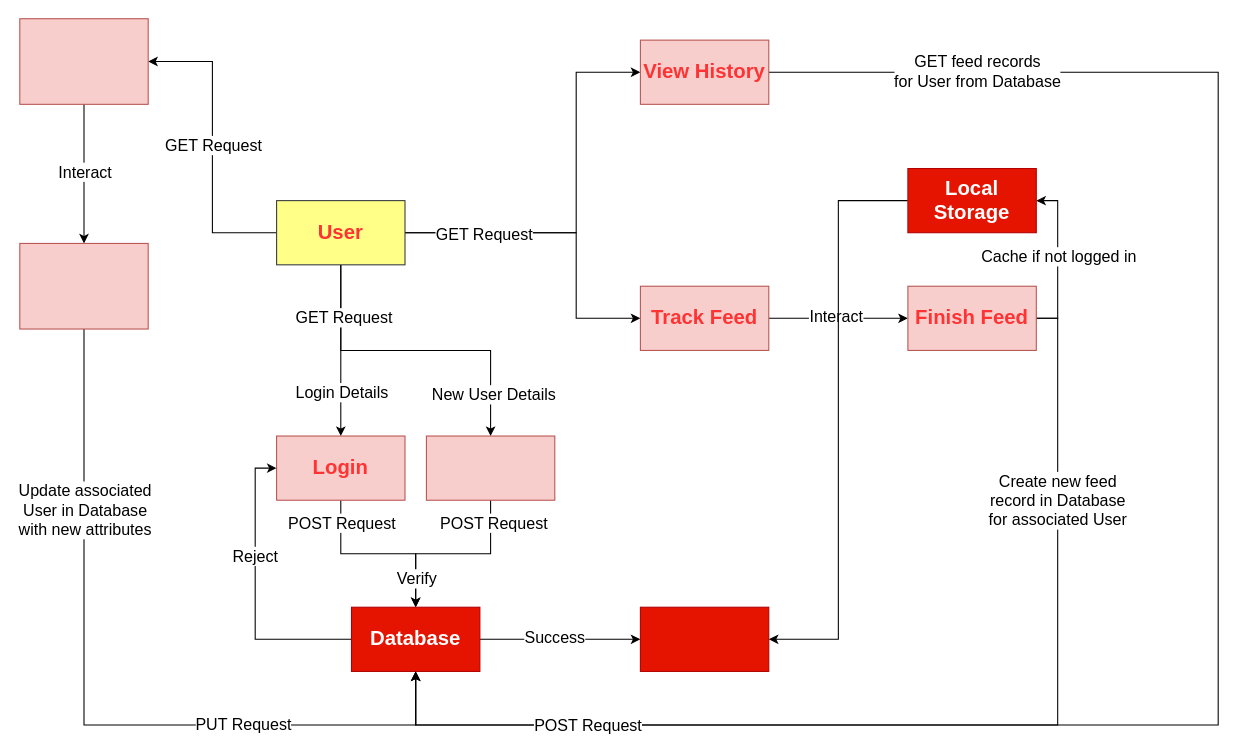
Some shapes in this 1245 by 752 pixel diagram are drawn without their labels. The shapes that lost their labels are listed below. From the top down, each one's centre as x and y in pixels, then its label:
At point 83,61: "View Account Page".
At point 83,285: "Update Account Details".
At point 490,467: "Register".
At point 704,638: "Client".
